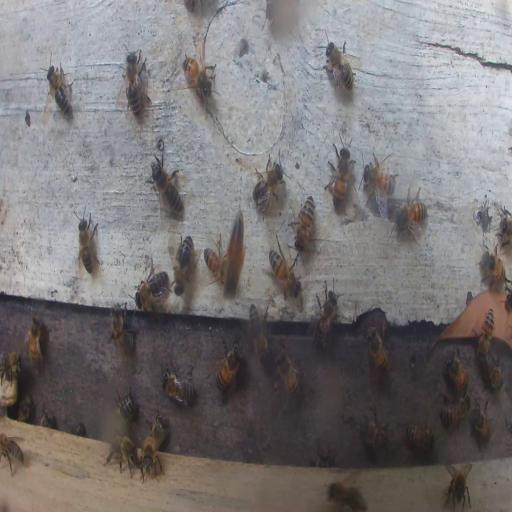bee: (324, 128, 354, 214), (361, 150, 399, 213), (224, 208, 248, 298), (150, 156, 184, 214), (324, 38, 356, 95), (252, 158, 284, 215), (311, 286, 339, 347), (393, 186, 427, 236), (123, 48, 147, 118), (44, 63, 73, 119), (267, 248, 299, 298), (182, 54, 215, 102), (442, 462, 474, 511), (216, 337, 243, 392), (160, 366, 197, 406), (136, 266, 170, 309), (108, 304, 136, 356), (170, 231, 194, 291), (274, 346, 302, 397), (248, 300, 270, 364), (76, 211, 98, 274), (326, 476, 366, 510), (104, 433, 138, 473), (294, 195, 315, 250), (0, 349, 22, 400), (471, 399, 493, 450), (361, 410, 389, 450), (439, 395, 470, 430), (204, 240, 227, 286), (0, 434, 25, 476), (479, 244, 505, 284), (366, 324, 388, 370), (27, 311, 43, 374), (444, 352, 468, 393), (404, 423, 435, 451), (478, 306, 494, 359), (147, 414, 166, 451), (141, 446, 160, 478), (116, 390, 135, 421), (17, 393, 34, 423), (500, 208, 512, 246), (489, 358, 502, 390), (41, 408, 56, 428), (316, 446, 330, 467), (504, 278, 512, 310)
